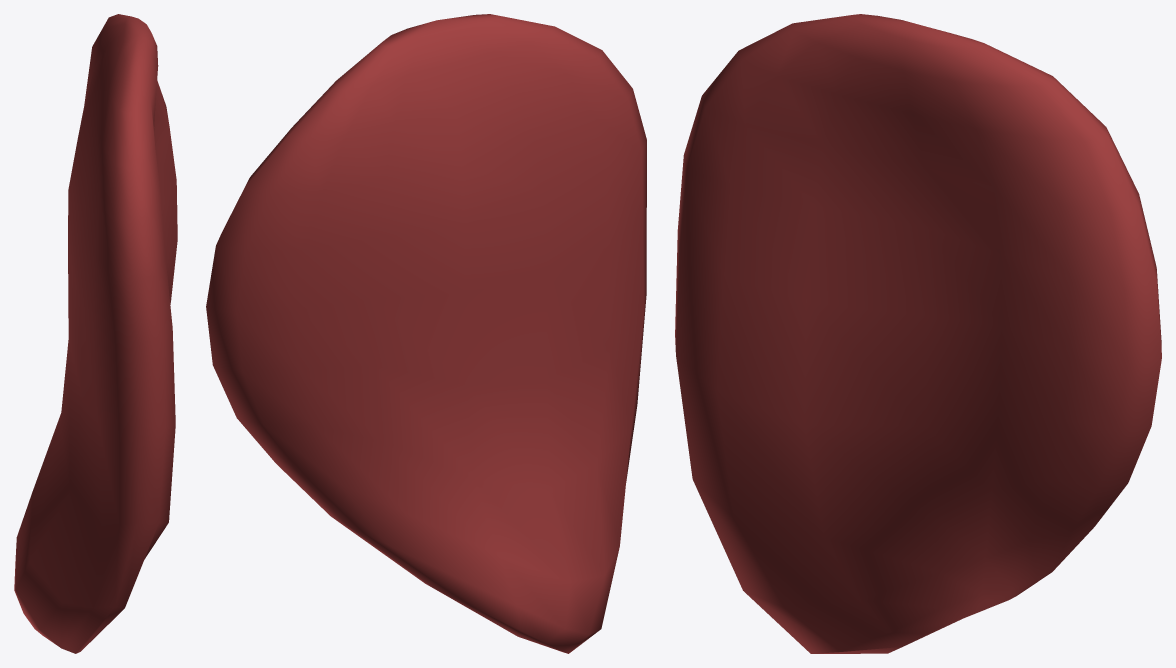
The model's file is subtendinous-bursa-of-iliacus-muscle-r.glb.
The picture shows the model from 3 angles, left to right: view 1: azimuth 30°, elevation 25°; view 2: azimuth 150°, elevation 25°; view 3: azimuth 270°, elevation 25°; orthographic projection. The views are drawn at different scales.
Parts seen in each view (by area): view 1: Subtendinous bursa of iliacus muscle.r; view 2: Subtendinous bursa of iliacus muscle.r; view 3: Subtendinous bursa of iliacus muscle.r.
Part boxes in pixels (x1,y1,x2,y2): Subtendinous bursa of iliacus muscle.r: [14, 14, 177, 653]; Subtendinous bursa of iliacus muscle.r: [206, 14, 646, 653]; Subtendinous bursa of iliacus muscle.r: [675, 14, 1161, 653].
Size of the model in its own units: 0.00929 by 0.0208 by 0.0132.
